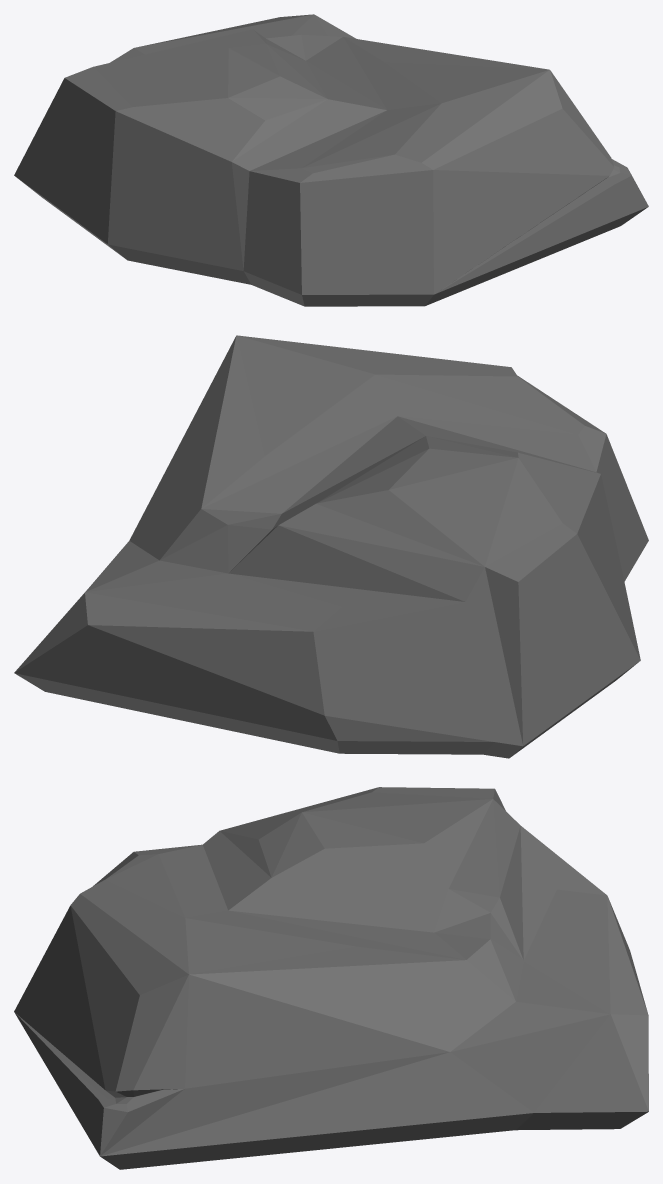
The model's file is rock__rock7_natural_medium.glb.
The picture shows the model from 3 angles, top to bottom: view 1: azimuth 30°, elevation 25°; view 2: azimuth 150°, elevation 25°; view 3: azimuth 270°, elevation 25°; orthographic projection. The views are drawn at different scales.
Visible parts, largest first — view 1: rock7.natural.medium; view 2: rock7.natural.medium; view 3: rock7.natural.medium.
Boxes of the visible parts, box(x1,y1,x2,y2) form: rock7.natural.medium: box(14, 14, 648, 306); rock7.natural.medium: box(14, 335, 648, 758); rock7.natural.medium: box(14, 787, 648, 1169).
Size of the model in its own units: 3.3 by 1.06 by 3.46.
Materials: 1 (1 with a texture image).
